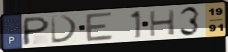1: (129, 10, 143, 40)
3: (177, 5, 205, 37)
D: (50, 14, 80, 45)
E: (85, 11, 115, 44)
H: (148, 8, 177, 38)
P: (21, 15, 52, 46)
